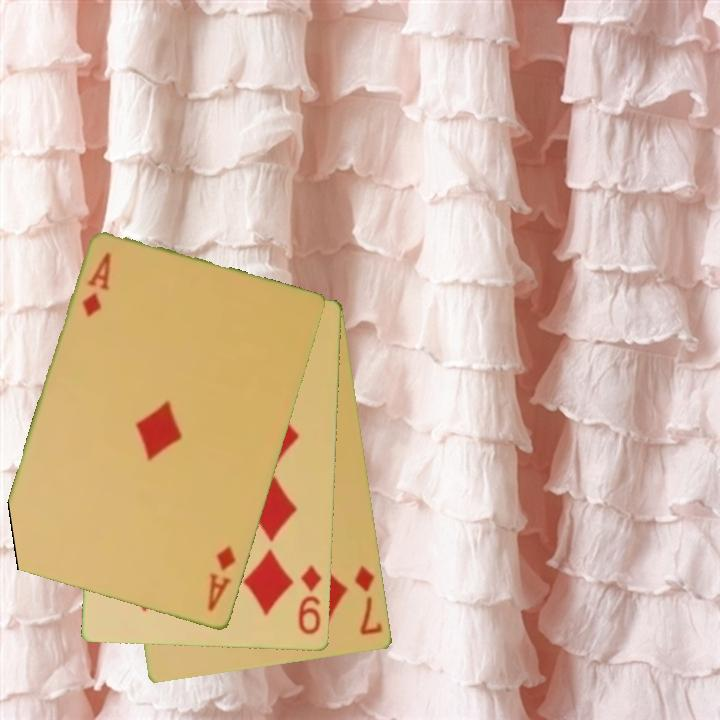7d: (351, 563, 386, 639)
9d: (295, 562, 324, 638)
Ad: (79, 249, 115, 320), (204, 542, 239, 615)
